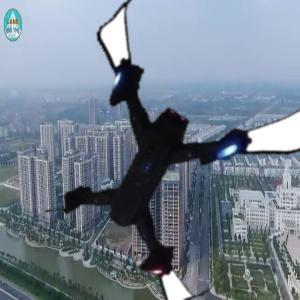drone: (28, 4, 300, 277)
